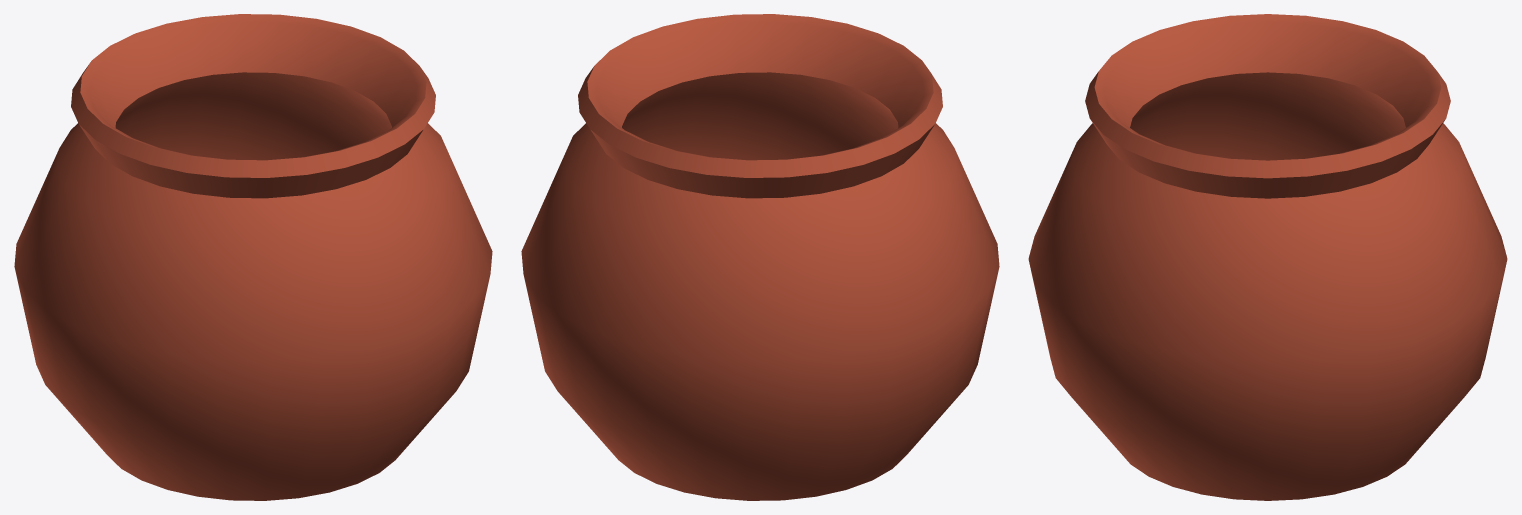
The model's file is pote_barro_pequeno.glb.
3 views of the same model, side by side, from view 1: azimuth 30°, elevation 25°; view 2: azimuth 150°, elevation 25°; view 3: azimuth 270°, elevation 25° (orthographic).
Visible parts, largest first — view 1: pote_barro_pequeno; view 2: pote_barro_pequeno; view 3: pote_barro_pequeno.
Boxes of the visible parts, bbox=[...] form: pote_barro_pequeno: bbox=[14, 14, 492, 500]; pote_barro_pequeno: bbox=[521, 14, 999, 500]; pote_barro_pequeno: bbox=[1028, 14, 1507, 500].
Size of the model in its own units: 0.088 by 0.0708 by 0.088.
1 material, 1 textured.
